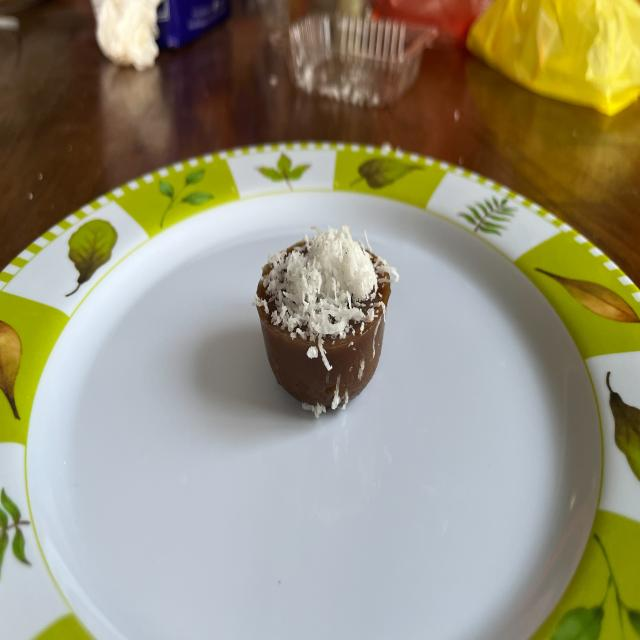Kuih lompang: (254, 224, 399, 418)
